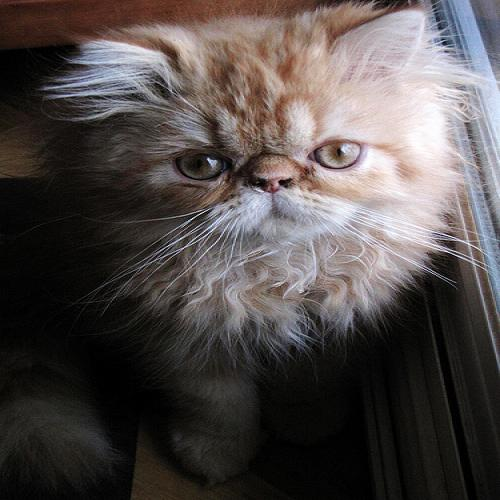persian: (74, 1, 449, 270)
